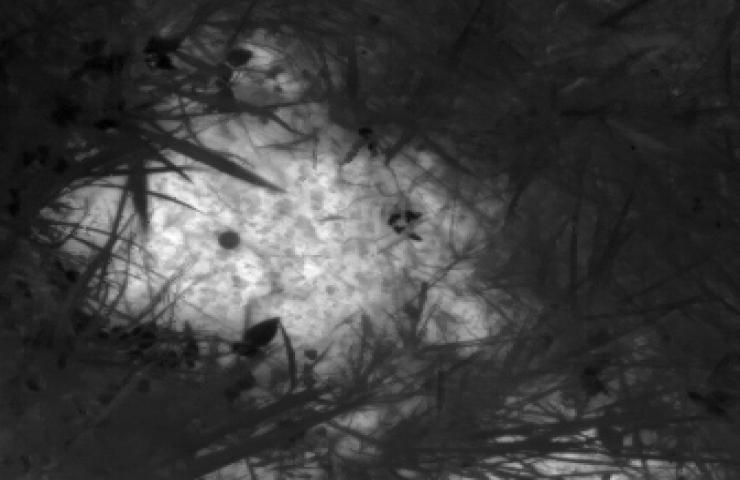landmines: (29, 28, 499, 377)
